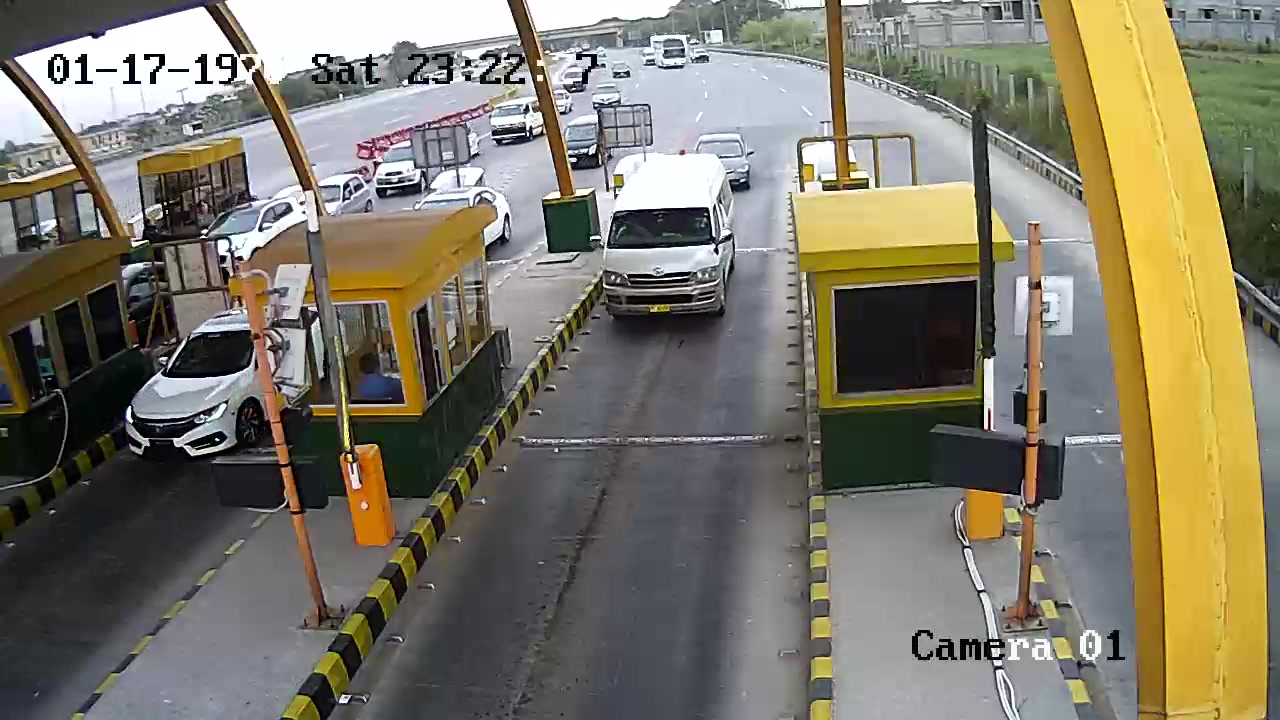F2: (597, 144, 745, 335)
